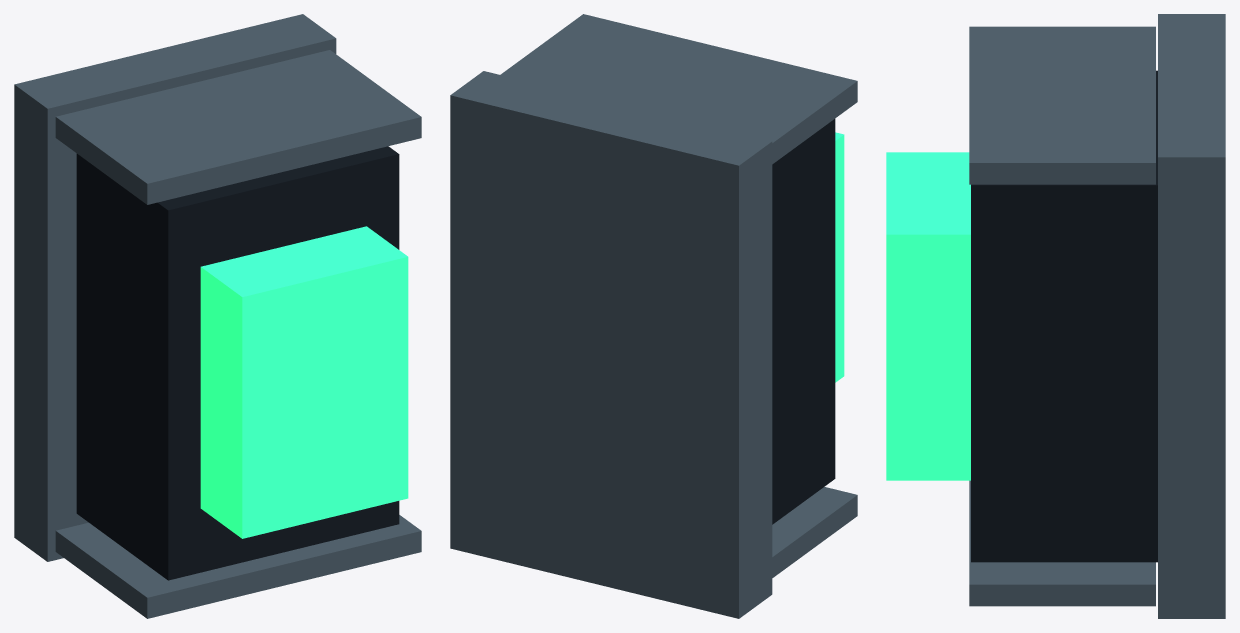
3 views of the same model, side by side, from view 1: azimuth 30°, elevation 25°; view 2: azimuth 150°, elevation 25°; view 3: azimuth 270°, elevation 25° (orthographic).
Parts seen in each view (by area): view 1: P16-03; view 2: P16-03; view 3: P16-03.
Part boxes in pixels (x1=…): P16-03: x1=14, y1=14, x2=421, y2=618; P16-03: x1=450, y1=14, x2=857, y2=618; P16-03: x1=886, y1=14, x2=1225, y2=618.
Bounding box in the file's own units: 0.2 × 0.3 × 0.2.
